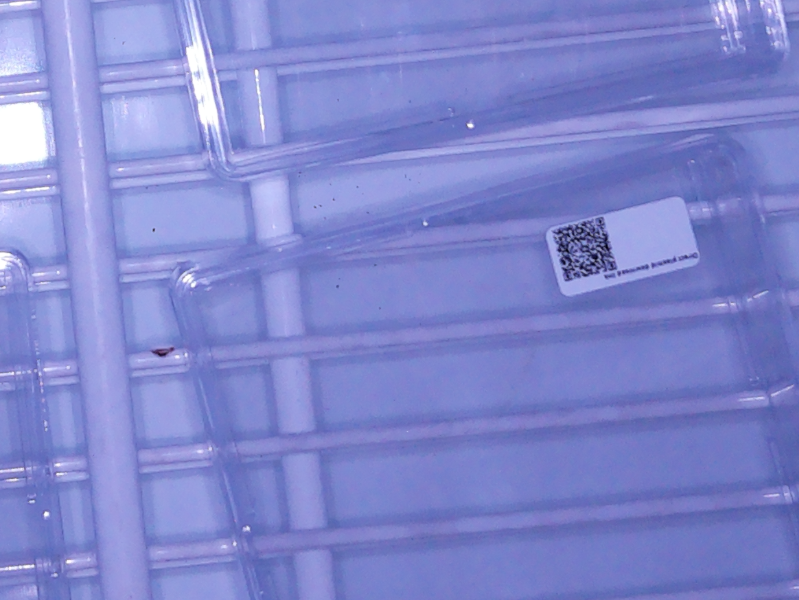plate: (166, 128, 799, 600), (168, 1, 799, 186), (1, 246, 74, 600)
